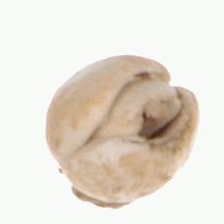L3: (96, 74, 189, 142)
L4: (44, 55, 198, 209)
